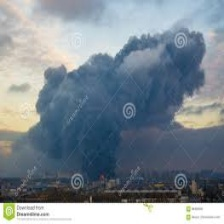smoke: (50, 35, 196, 182)
